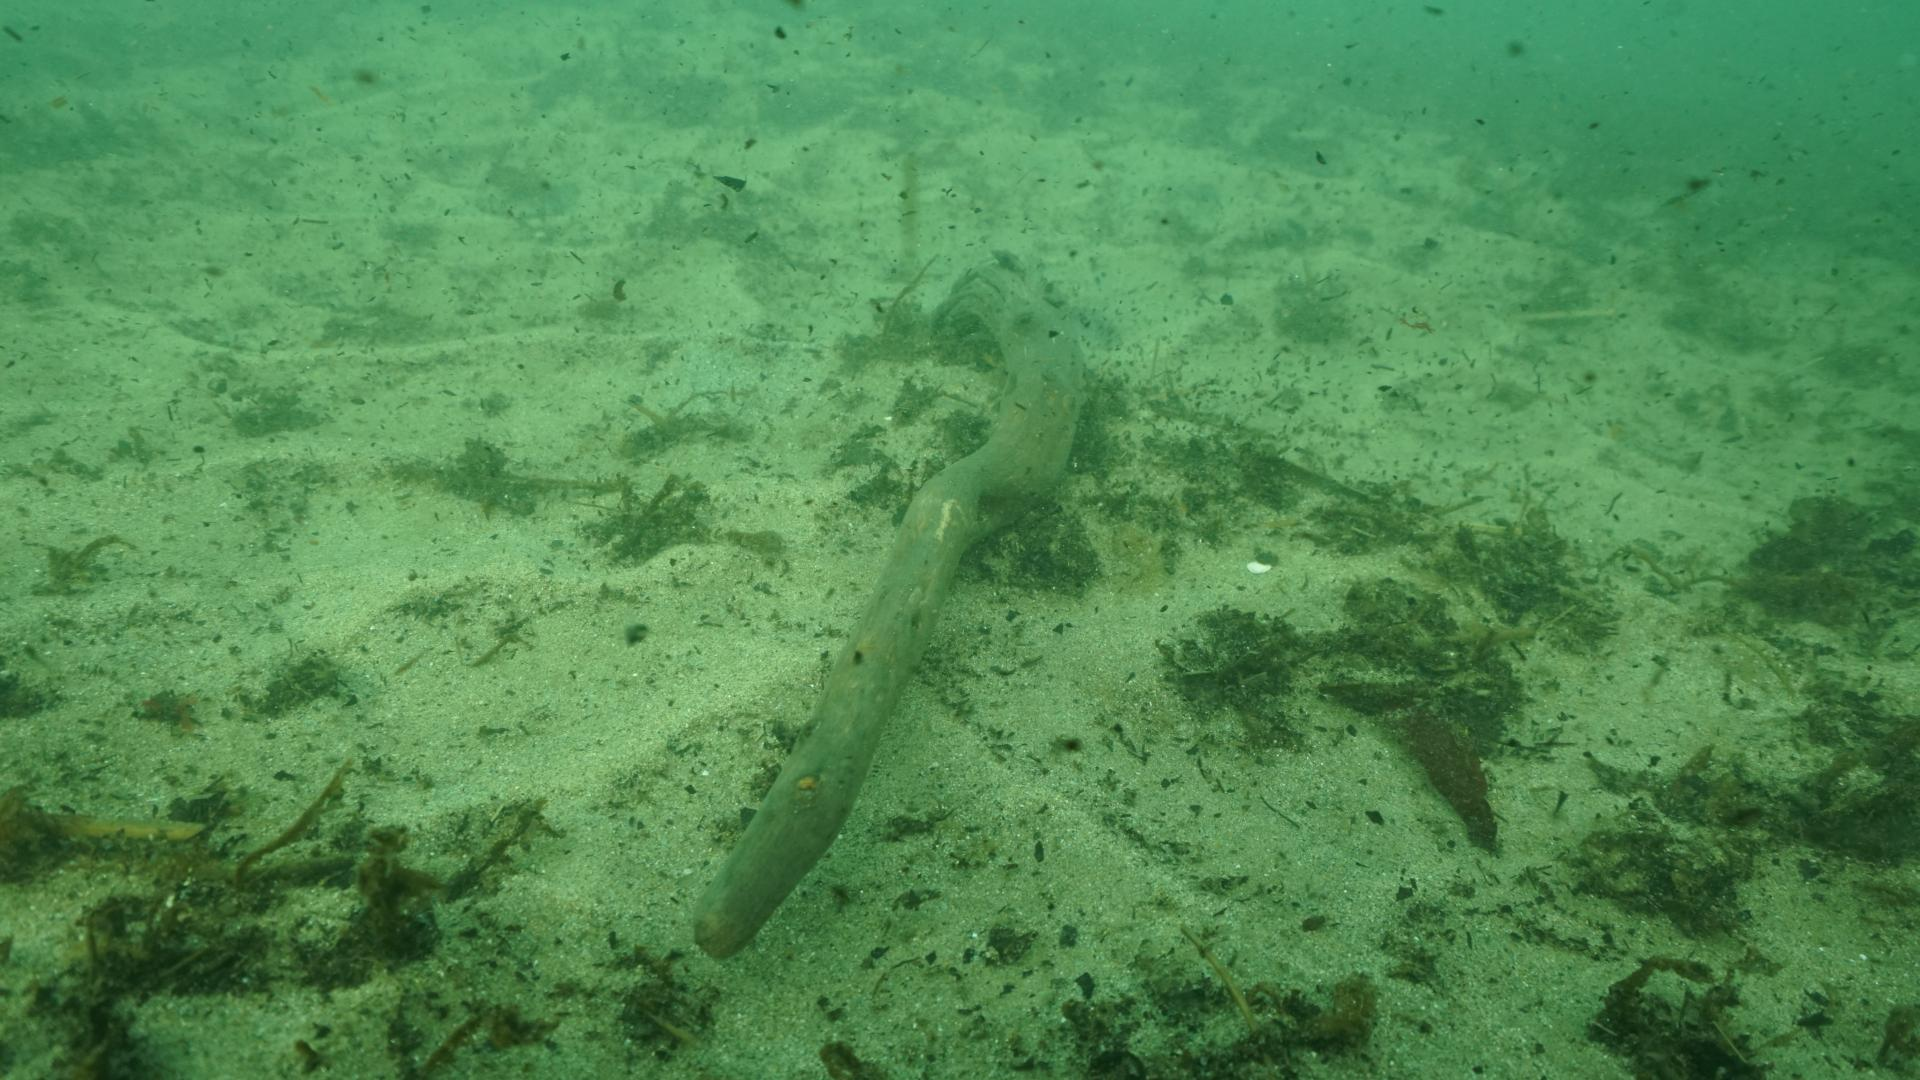wood: (694, 269, 1080, 956)
